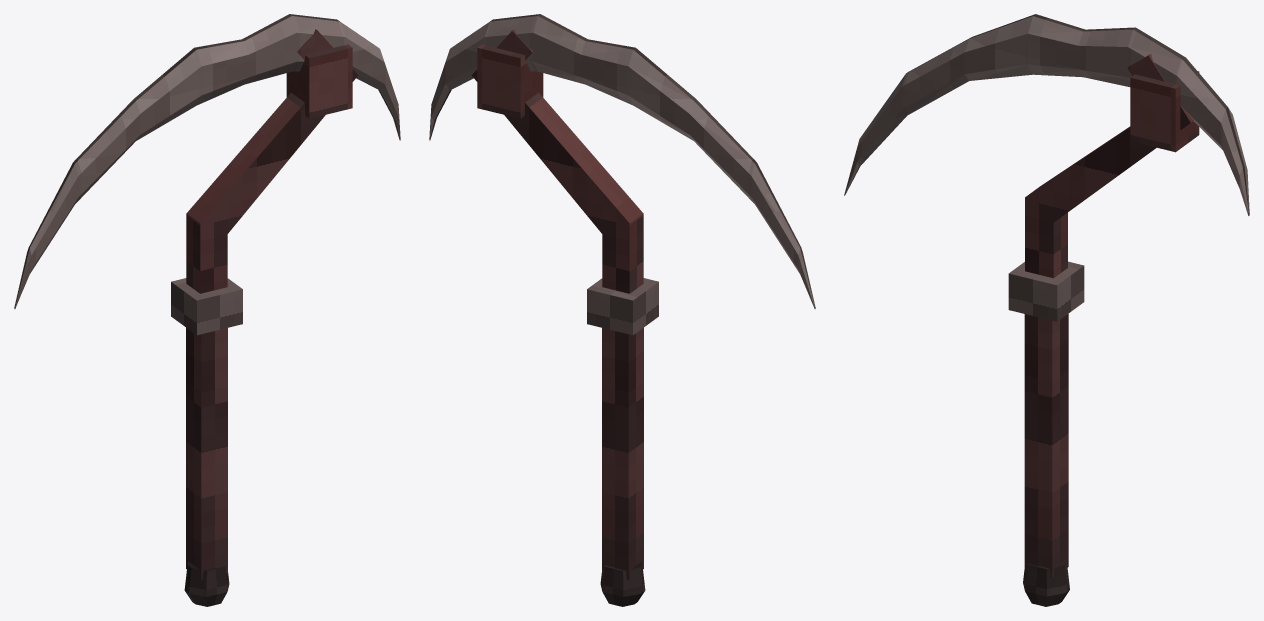
File: cutout.obj
3 views of the same model, side by side, from view 1: azimuth 30°, elevation 25°; view 2: azimuth 150°, elevation 25°; view 3: azimuth 330°, elevation 25° (orthographic). The views are drawn at different scales.
Size of the model in its own units: 1.67 by 2.33 by 0.1938.
